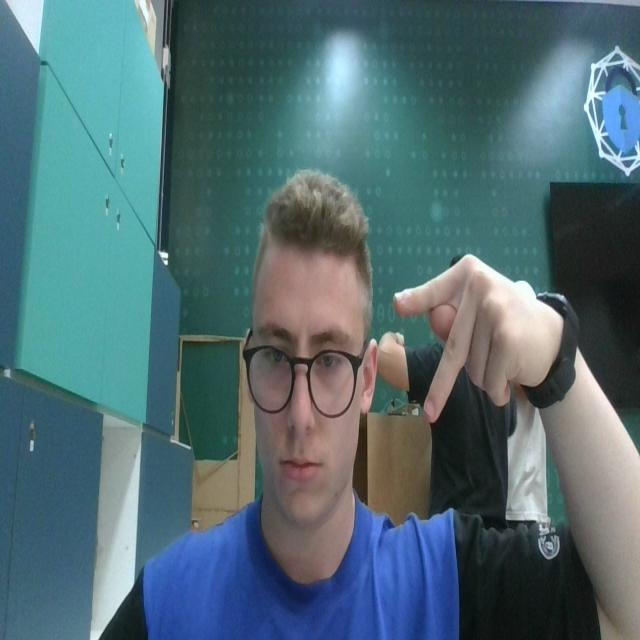P: (387, 242, 544, 425)
